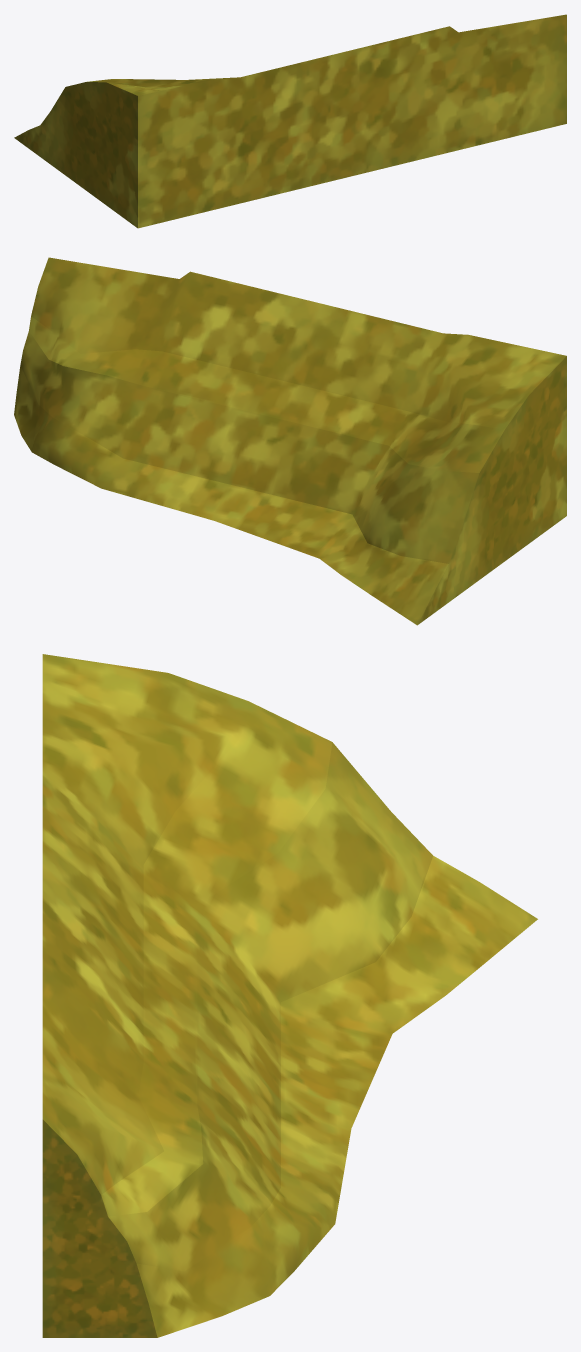
File: grass_slope_long_down_b.fbx
3 views of the same model, one above another, from view 1: azimuth 30°, elevation 25°; view 2: azimuth 150°, elevation 25°; view 3: azimuth 270°, elevation 25° (orthographic). The views are drawn at different scales.
Parts seen in each view (by area): view 1: desert_grass71; view 2: desert_grass71; view 3: desert_grass71.
Part boxes in pixels (left/top/right/bottom): desert_grass71: left=14, top=14, right=566, bottom=228; desert_grass71: left=14, top=257, right=566, bottom=625; desert_grass71: left=42, top=654, right=537, bottom=1337.
Bounding box in the file's own units: 200 × 59.04 × 100.
